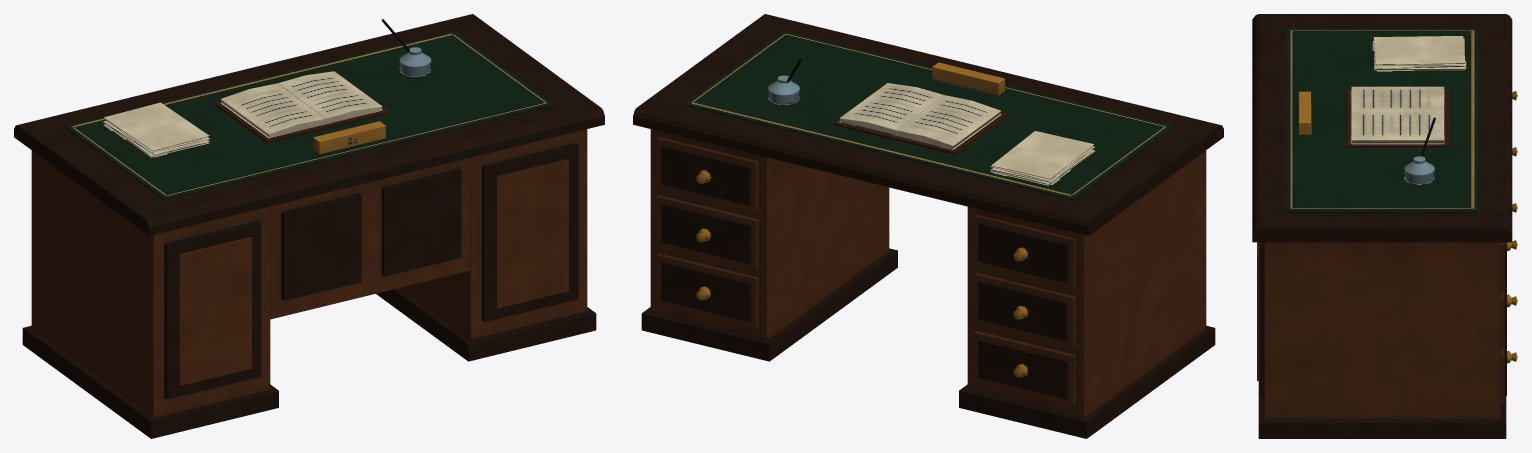
File: office_desk.glb
3 views of the same model, side by side, from view 1: azimuth 30°, elevation 25°; view 2: azimuth 150°, elevation 25°; view 3: azimuth 270°, elevation 25° (orthographic). The views are drawn at different scales.
Visible parts, largest first — view 1: office_desk; view 2: office_desk; view 3: office_desk.
Boxes of the visible parts, x1,y1,x2,y2 form: office_desk: (14,14,604,438); office_desk: (633,14,1223,438); office_desk: (1252,14,1517,438).
Size of the model in its own units: 1.64 by 0.9418 by 0.857.
1 material, 1 textured.
